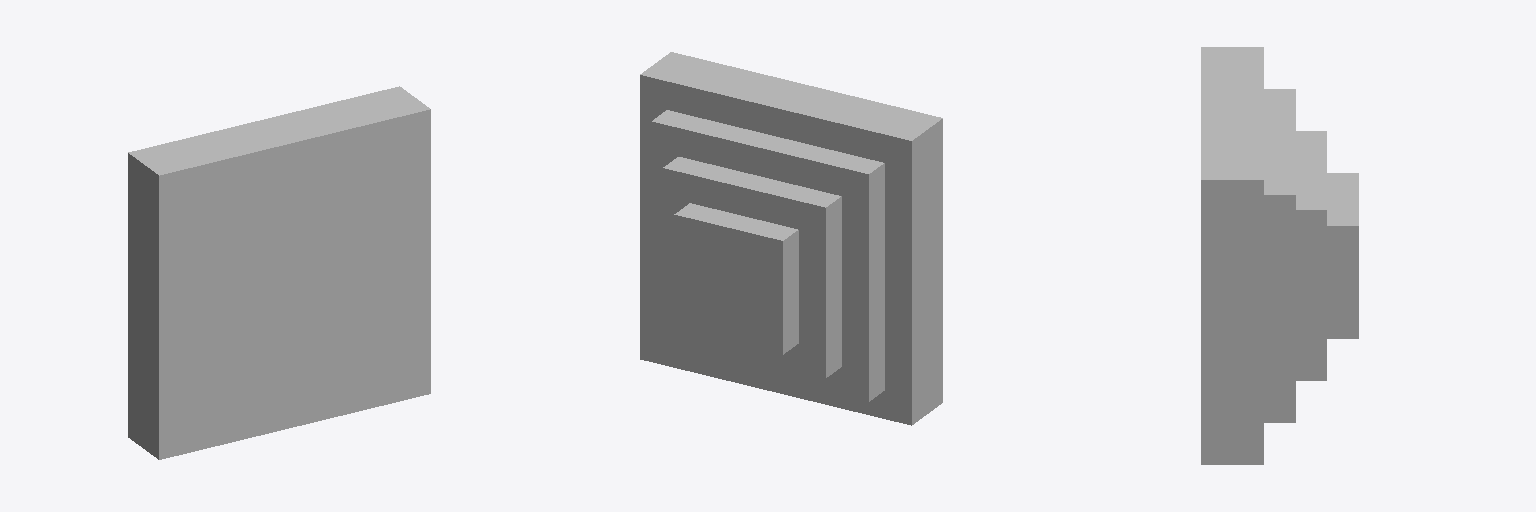
File: redstone_reader.obj
3 views of the same model, side by side, from view 1: azimuth 30°, elevation 25°; view 2: azimuth 150°, elevation 25°; view 3: azimuth 270°, elevation 25° (orthographic).
Parts seen in each view (by area): view 1: back, one; view 2: one, two, three, four; view 3: one, two, three, four.
Boxes of the visible parts, x1=… form: back: x1=159, y1=109, x2=430, y2=459; one: x1=128, y1=86, x2=429, y2=459; one: x1=640, y1=52, x2=942, y2=425; two: x1=651, y1=110, x2=884, y2=401; three: x1=663, y1=157, x2=841, y2=377; four: x1=674, y1=203, x2=798, y2=354; one: x1=1201, y1=47, x2=1263, y2=464; two: x1=1264, y1=89, x2=1295, y2=422; three: x1=1296, y1=131, x2=1326, y2=380; four: x1=1327, y1=173, x2=1358, y2=338.
Bounding box in the file's own units: 0.625 × 0.625 × 0.3125.